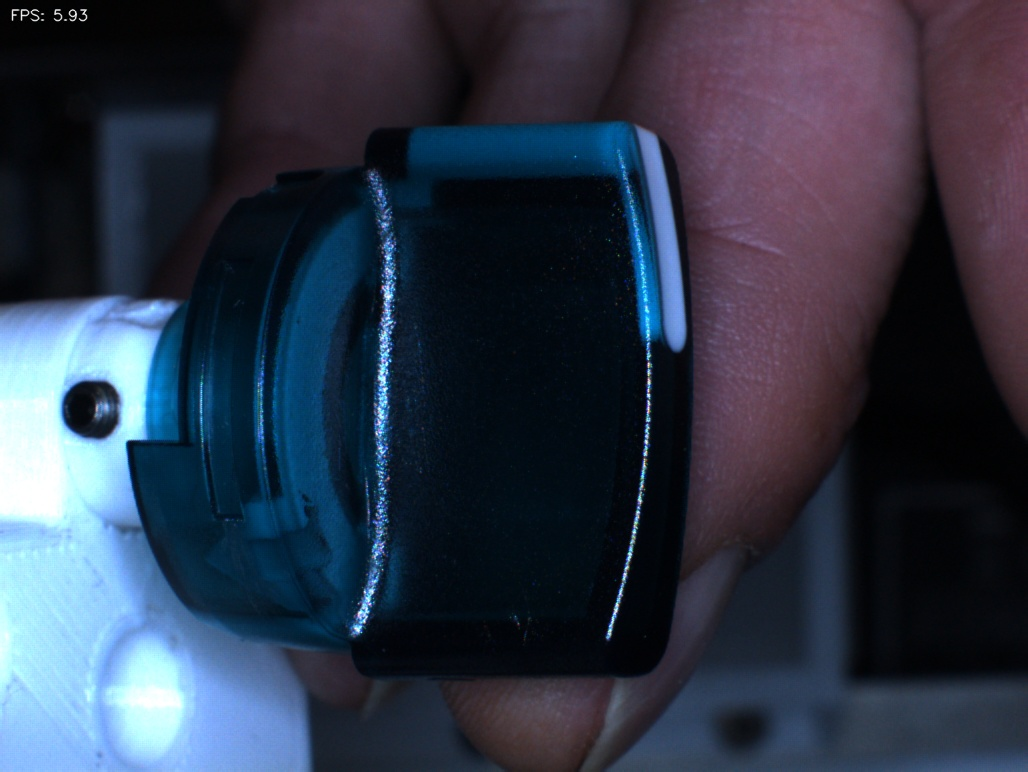Givrage: (398, 320, 441, 475), (498, 586, 555, 655)
